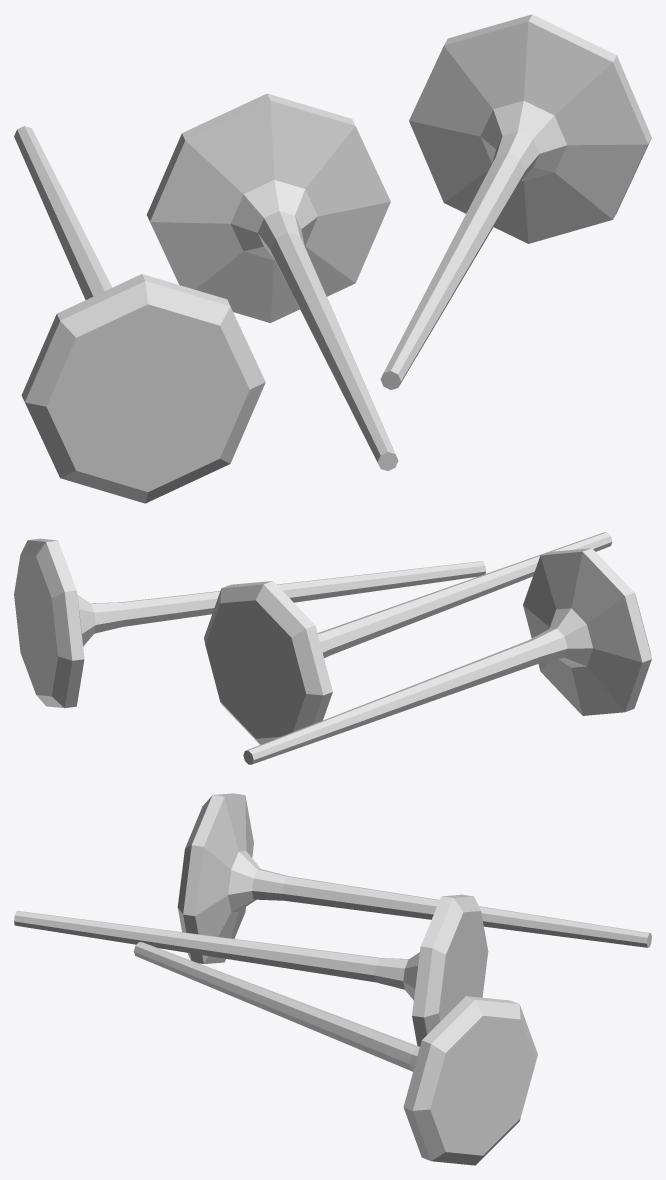
The model's file is Nails.fbx.
The picture shows the model from 3 angles, top to bottom: view 1: azimuth 30°, elevation 25°; view 2: azimuth 150°, elevation 25°; view 3: azimuth 270°, elevation 25°; orthographic projection. The views are drawn at different scales.
Parts seen in each view (by area): view 1: Nails; view 2: Nails; view 3: Nails.
Part boxes in pixels (bbox=[...]): Nails: bbox=[14, 14, 651, 503]; Nails: bbox=[14, 532, 651, 764]; Nails: bbox=[14, 793, 651, 1165].
Bounding box in the file's own units: 24.58 × 7.05 × 24.58.
